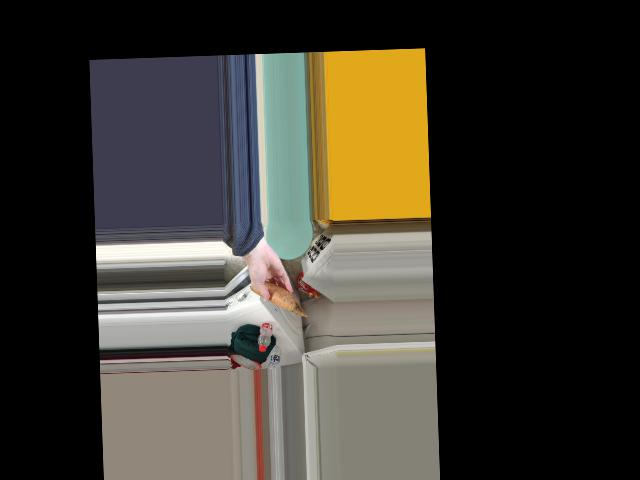sweet_potato: (256, 282, 292, 309)
